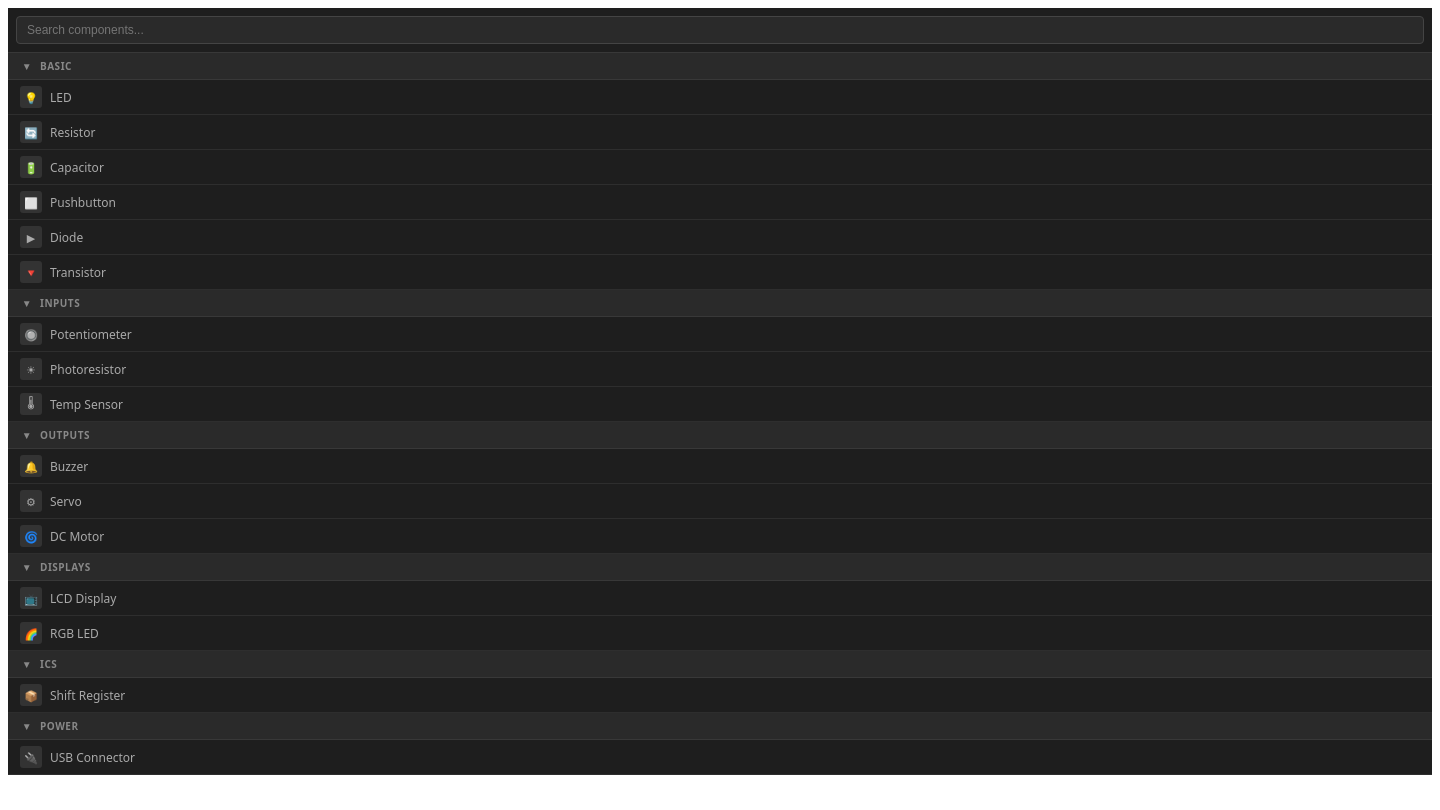
Test: TinkercadPalette › expands a collapsed category when clicked again
// Collapse Basic
Click the element with test id "category-header-Basic": (720, 66) [8,53,1432,80]
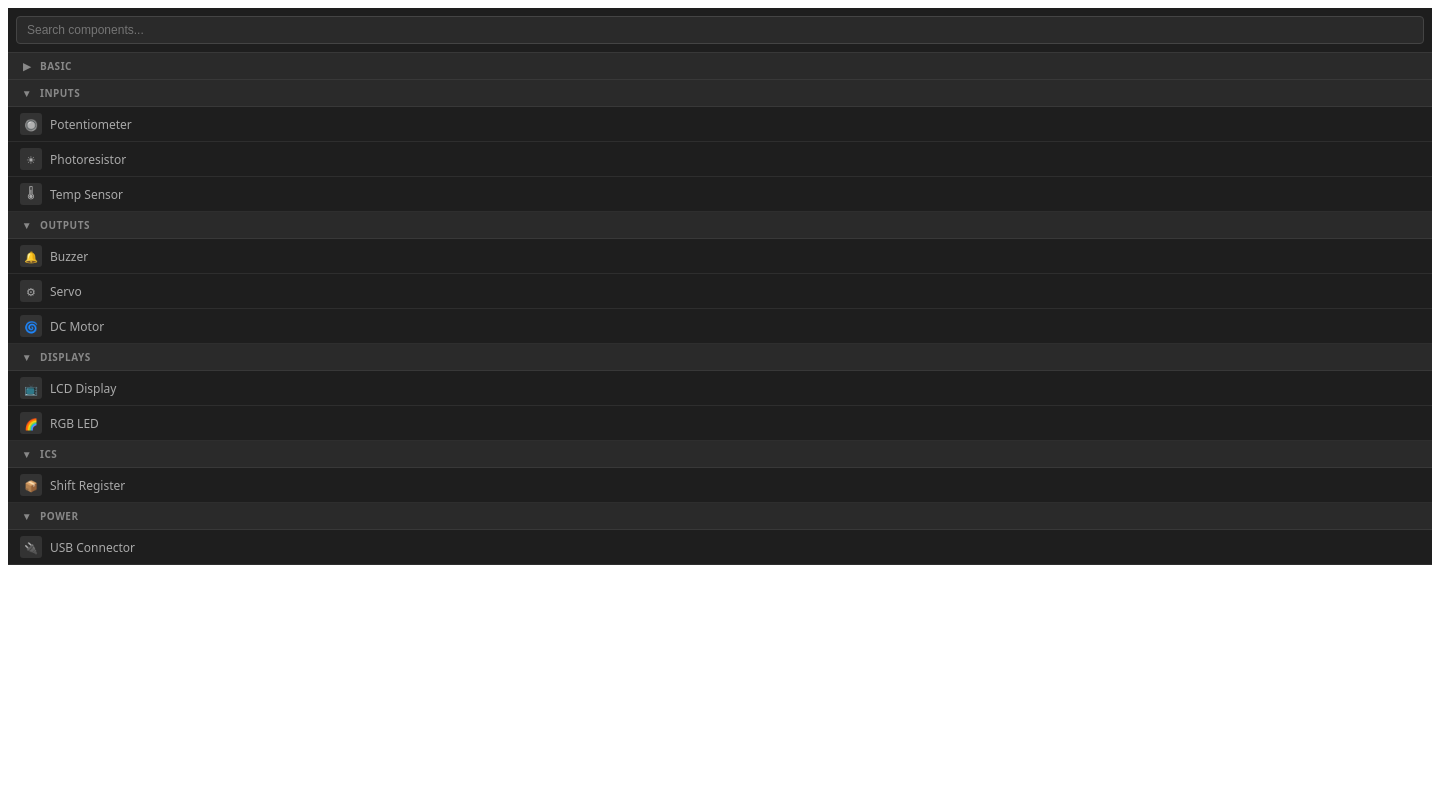
Now the element with test id "category-header-Basic" shows "▶", box [23,59,31,73]
// Expand Basic
Click the element with test id "category-header-Basic": (720, 66) [8,53,1432,80]
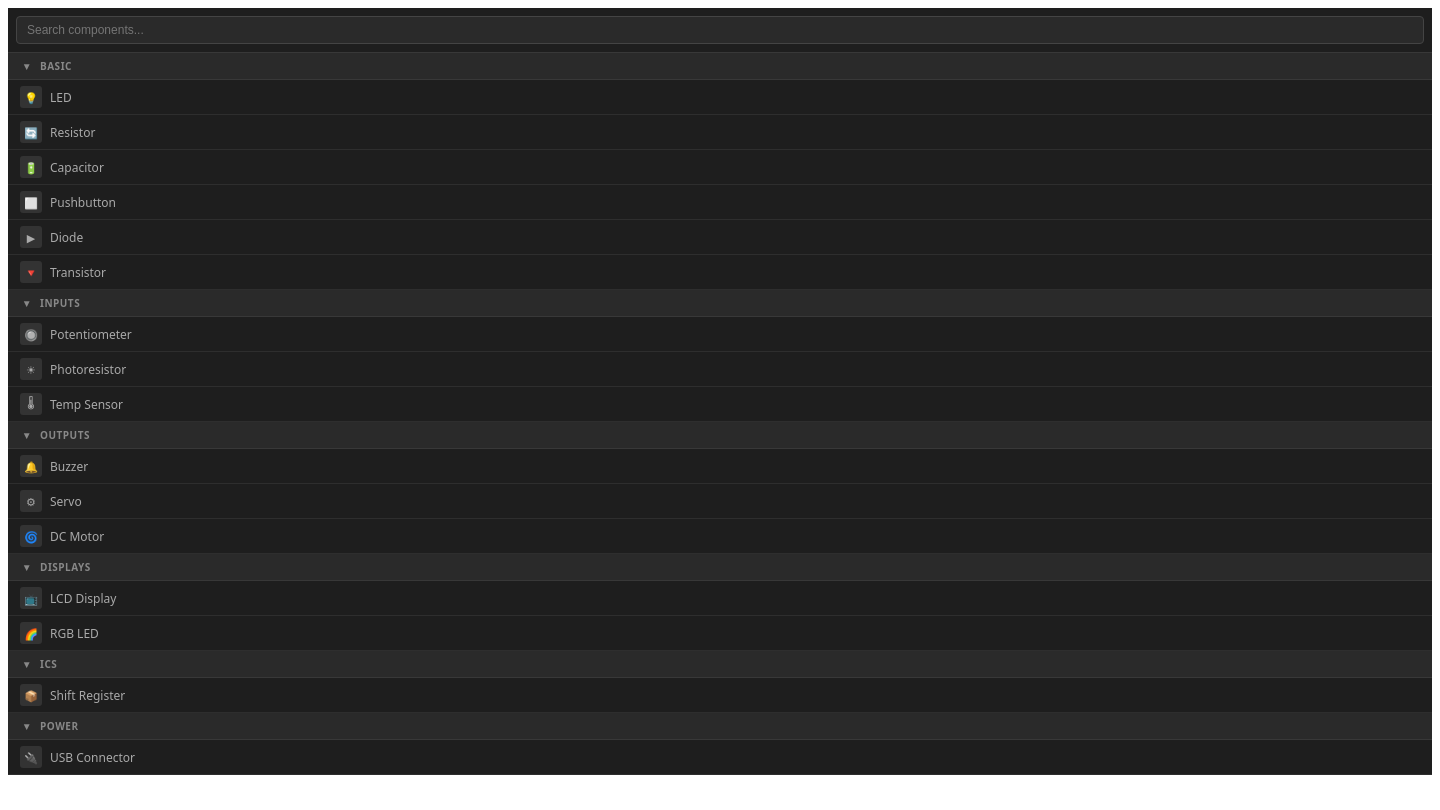
Now the element with test id "category-header-Basic" shows "▼", box [22,59,32,73]
